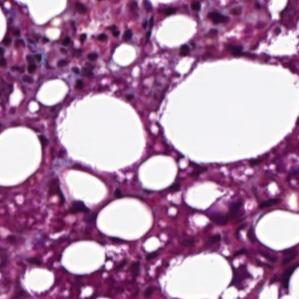inflammation: (46, 174, 91, 219), (62, 45, 102, 80), (201, 9, 234, 32)
